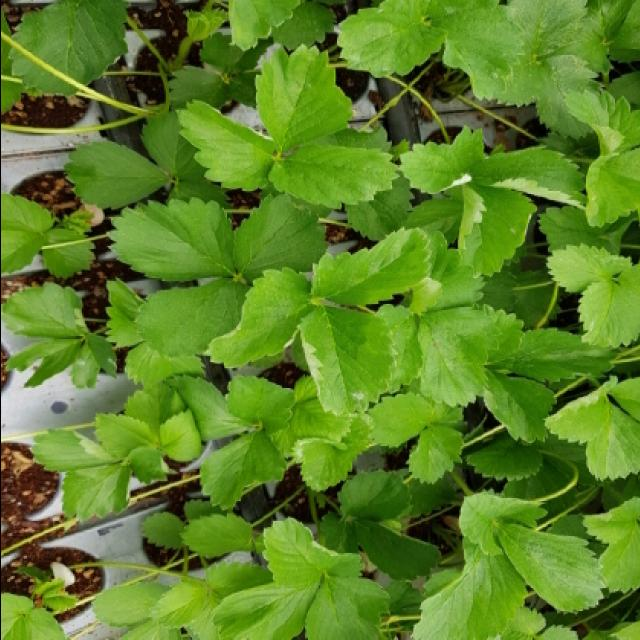Powdery Mildew Leaf: (295, 303, 398, 417), (261, 516, 362, 590), (289, 411, 379, 492), (396, 124, 485, 195), (70, 338, 100, 392)
